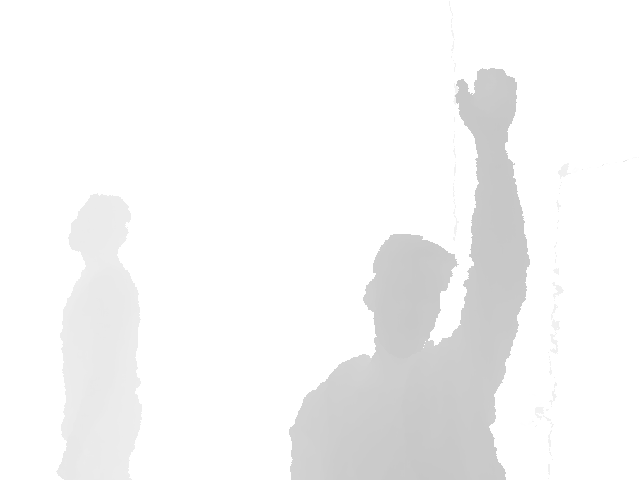hand: (455, 67, 518, 146)
head: (363, 234, 454, 351), (68, 192, 130, 264)
person: (286, 67, 533, 480), (56, 191, 145, 480)
